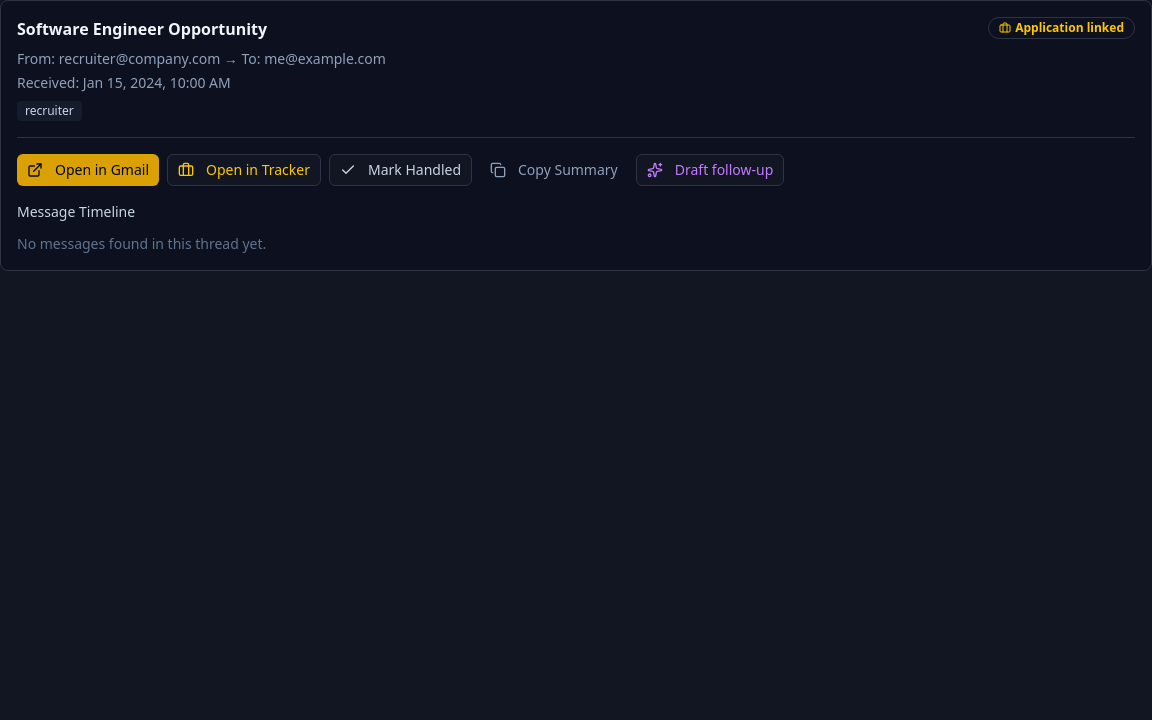
Test: ThreadViewer - Follow-up Draft › should generate draft when button is clicked
What coordinates should you click on to do the following:
click the button with test id "thread-viewer-draft-followup"
I would click on:
 (710, 170)
Its box is [636, 154, 784, 186].
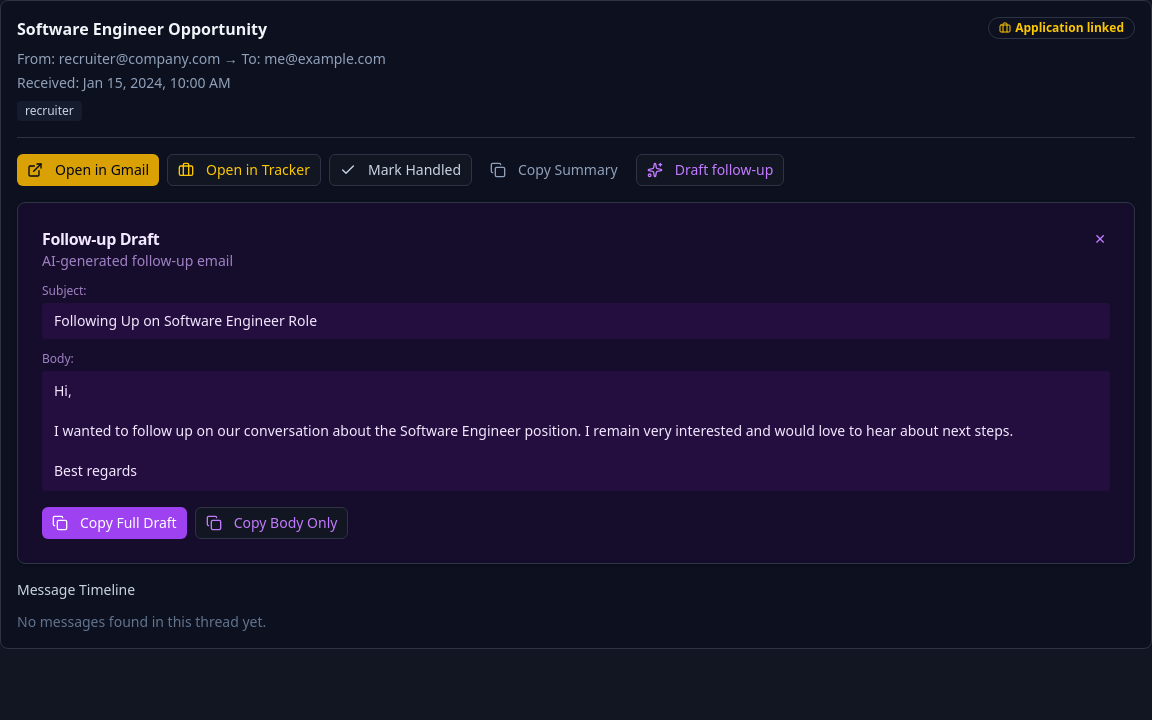
Now the text "Follow-up Draft" is shown, box [42, 228, 159, 250]
Now the text "Following Up on Software Engineer Role" is shown, box [42, 303, 1110, 339]
Now the text "I wanted to follow up on our conversation" is shown, box [54, 381, 1013, 480]
